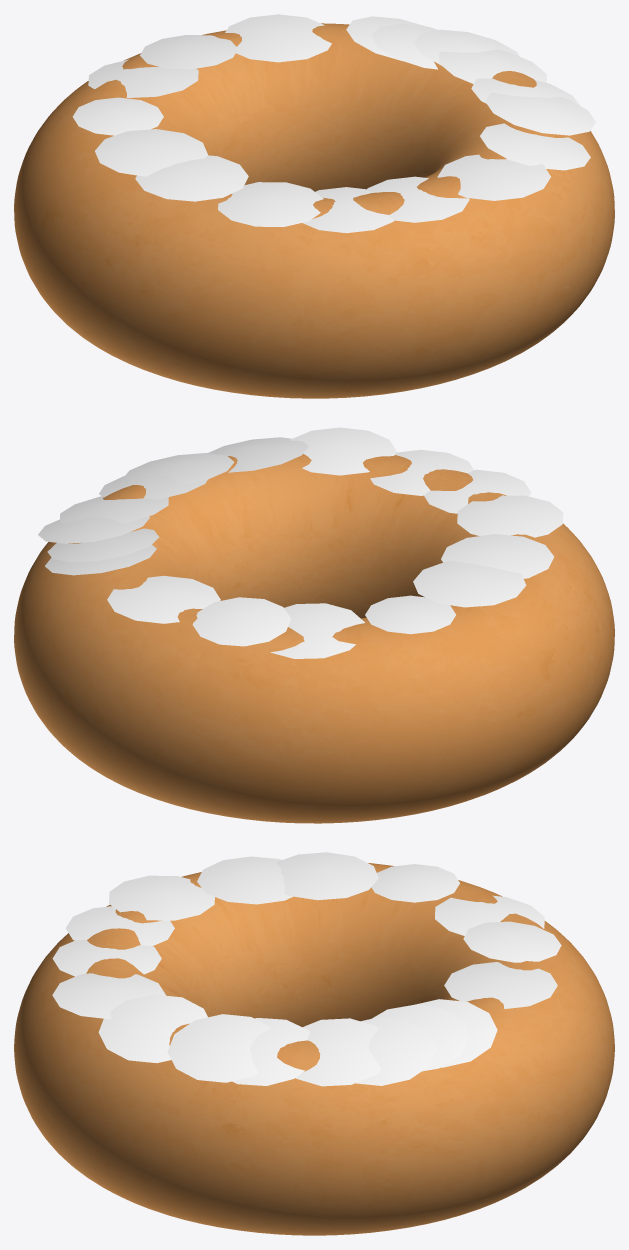
The model's file is Donut5.obj.
The picture shows the model from 3 angles, top to bottom: view 1: azimuth 30°, elevation 25°; view 2: azimuth 150°, elevation 25°; view 3: azimuth 270°, elevation 25°; orthographic projection.
Visible parts, largest first — view 1: mesh19; view 2: mesh19; view 3: mesh19.
Boxes of the visible parts, x1,y1,x2,y2 form: mesh19: (14,14,614,398); mesh19: (14,427,614,823); mesh19: (14,852,614,1235).
Size of the model in its own units: 13.77 by 4.88 by 13.76.
Materials: 2 (1 with a texture image).
